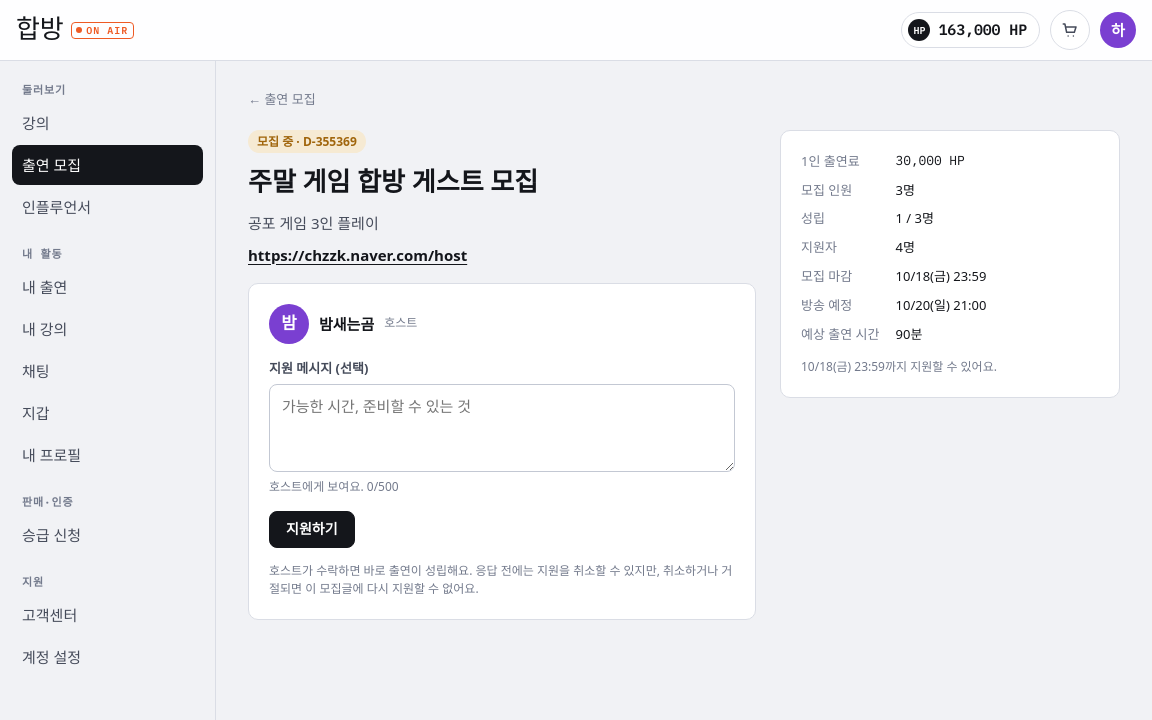
Test: 모집 상세 · 게스트 › 이미 지원했으면(409 DUPLICATE_APPLICATION) 알리고 다시 불러온다
Click the button "지원하기".
click(312, 529)  # box [269,511,354,548]
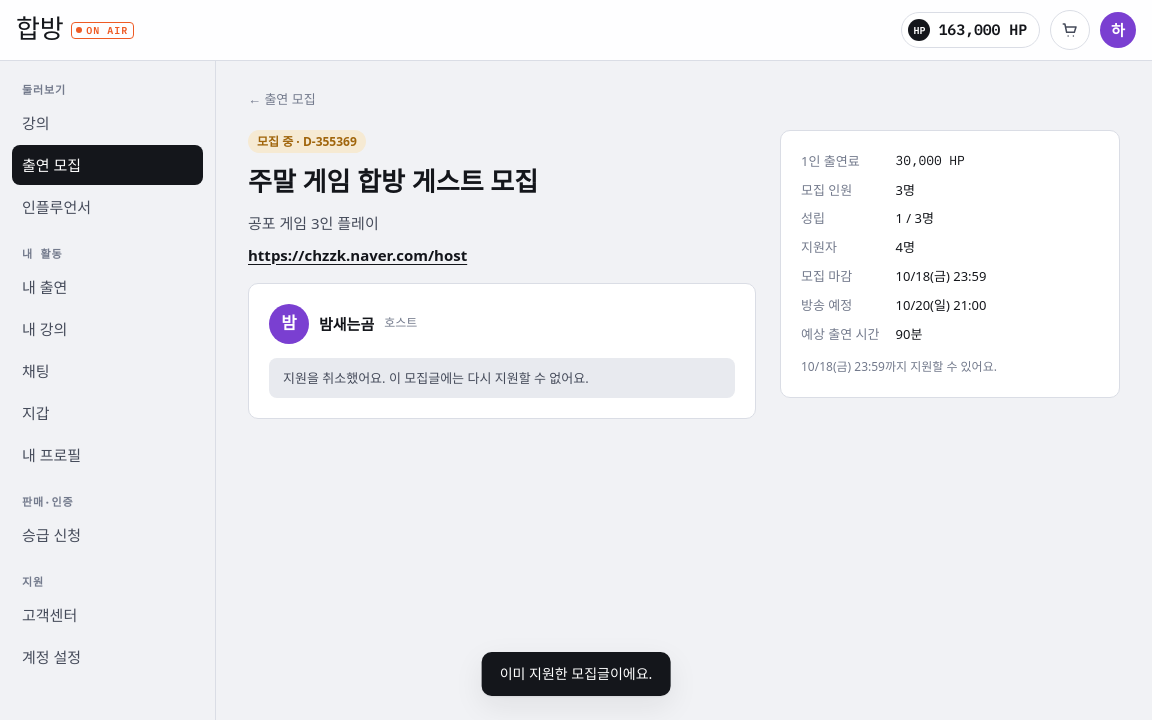
Now the text "이미 지원한 모집글이에요." is shown, box [482,652,670,696]
Now the text "지원을 취소했어요. 이 모집글에는 다시 지원할 수 없어요." is shown, box [269,358,735,398]
